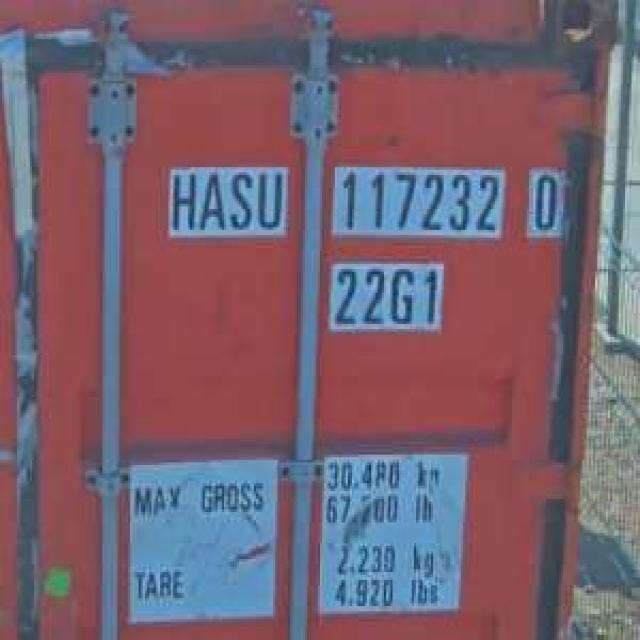dv: (525, 162, 563, 238)
owner: (166, 162, 286, 235)
serial: (330, 162, 506, 240)
size: (326, 258, 444, 332)
